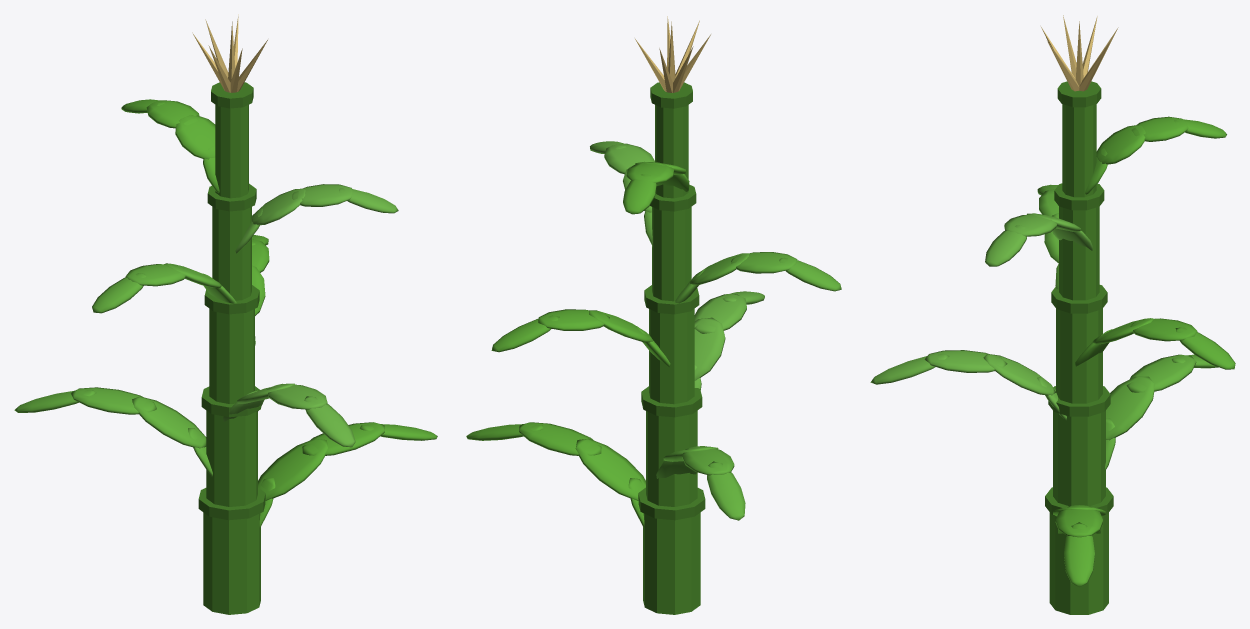
File: Planta_Corn.fbx
3 views of the same model, side by side, from view 1: azimuth 30°, elevation 25°; view 2: azimuth 150°, elevation 25°; view 3: azimuth 270°, elevation 25° (orthographic).
Parts seen in each view (by area): view 1: Corpo_Corn; view 2: Corpo_Corn; view 3: Corpo_Corn.
Boxes of the visible parts, <box> form: Corpo_Corn: <box>14,14,437,614</box>; Corpo_Corn: <box>466,16,841,614</box>; Corpo_Corn: <box>870,15,1235,614</box>.
Bounding box in the file's own units: 2.67 × 4.12 × 2.34.
1 material, 1 textured.
